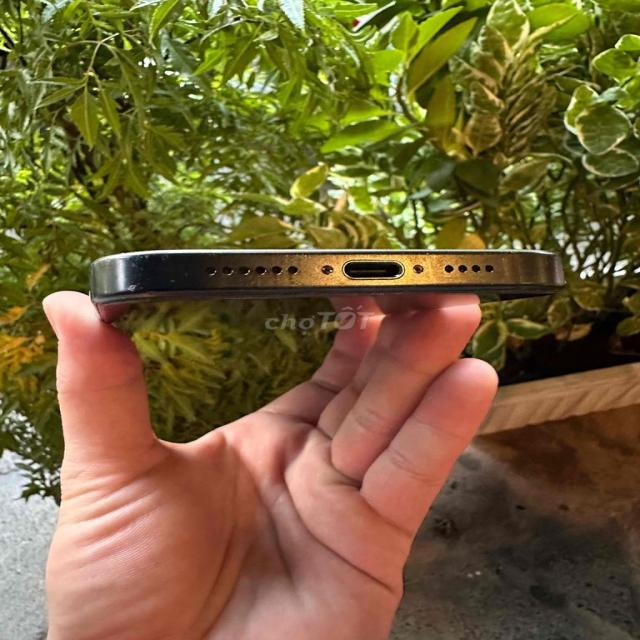scratch: (78, 246, 213, 334), (289, 238, 326, 280), (488, 252, 510, 271), (454, 243, 470, 267), (417, 241, 431, 264), (246, 275, 261, 295)
